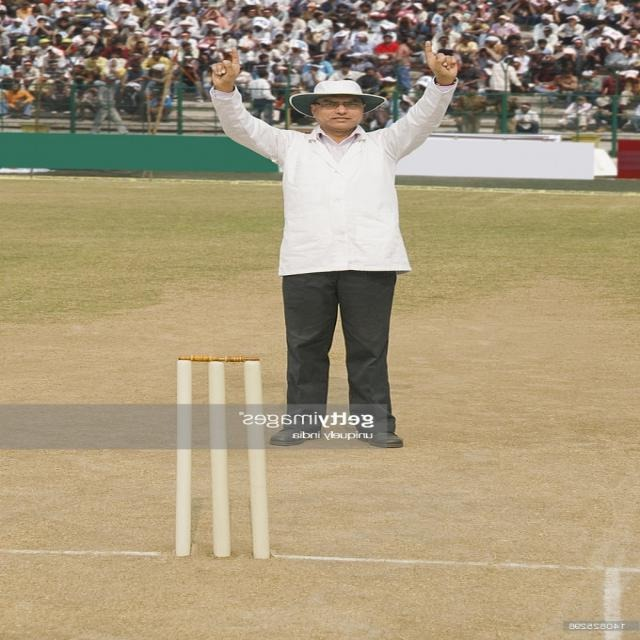Six: (192, 30, 476, 449)
